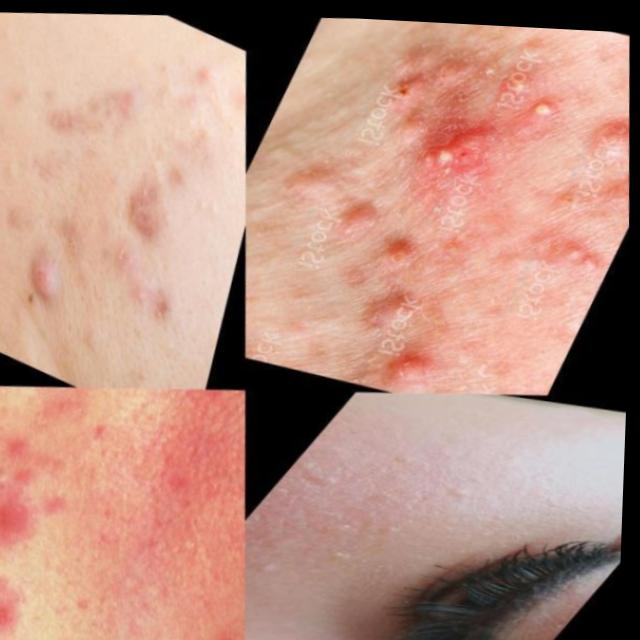Acne: (315, 61, 562, 371), (0, 19, 198, 309), (289, 458, 379, 599), (0, 468, 81, 606)
